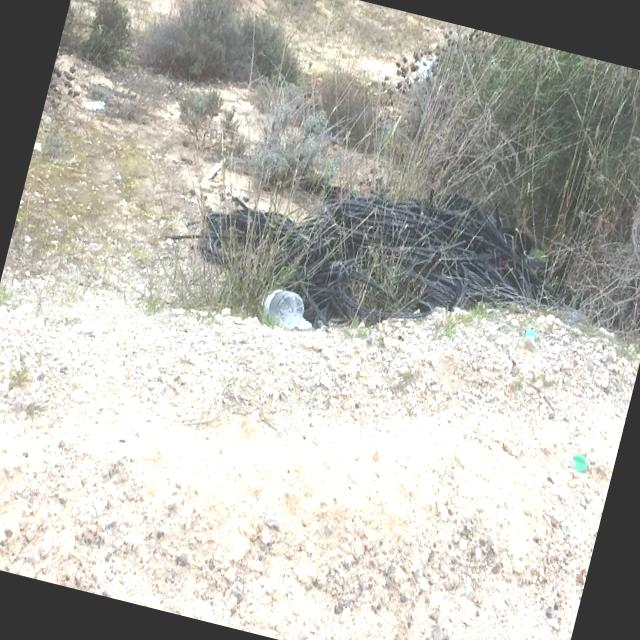Recycle: (256, 278, 310, 338)
Trash: (82, 94, 108, 118)
